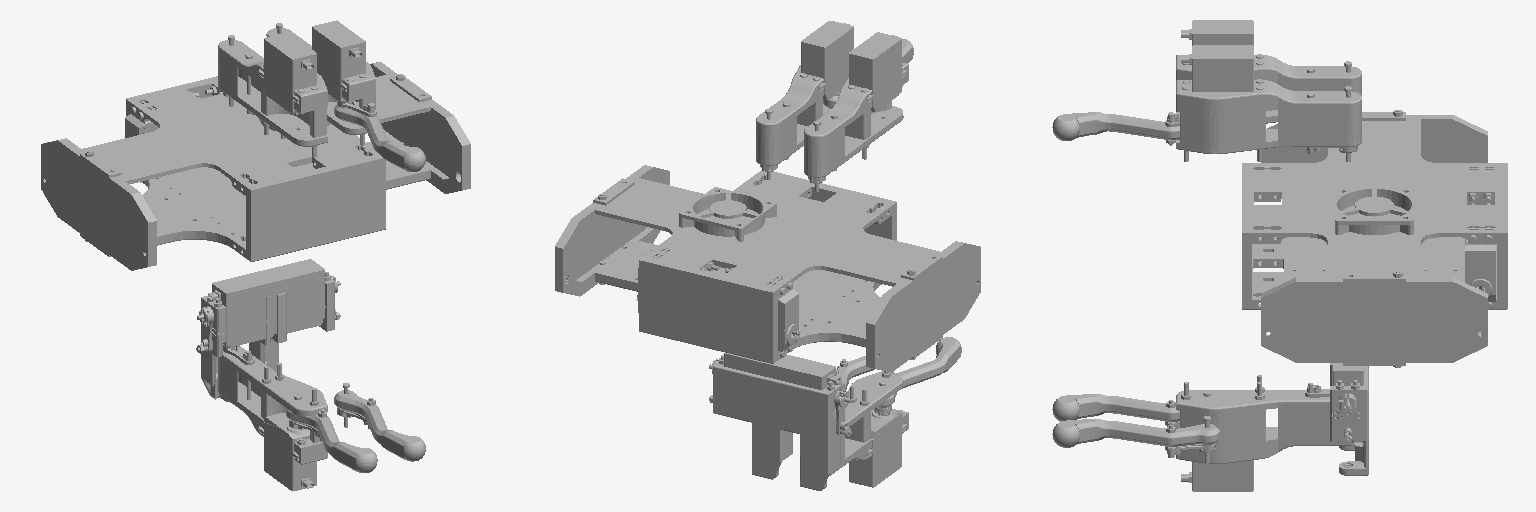
robot.urdf — urd_robot_cuadrupedo_v1:
<?xml version="1.0" encoding="utf-8"?>
<!-- This URDF was automatically created by SolidWorks to URDF Exporter! Originally created by [author] ([email redacted]) 
     Commit Version: 1.6.0-4-g7f85cfe  Build Version: 1.6.7995.38578
     For more information, please see http://wiki.ros.org/sw_urdf_exporter -->
<robot
  name="urd_robot_cuadrupedo_v1">
  <link
    name="base_robot">
    <inertial>
      <origin
        xyz="-0.0023228 3.1531E-05 0.022788"
        rpy="0 0 0" />
      <mass
        value="0.68605" />
      <inertia
        ixx="0.0011299"
        ixy="1.1936E-07"
        ixz="-1.0334E-06"
        iyy="0.0011234"
        iyz="-2.8781E-08"
        izz="0.0021297" />
    </inertial>
    <visual>
      <origin
        xyz="0 0 0"
        rpy="0 0 0" />
      <geometry>
        <mesh
          filename="package://urd_robot_cuadrupedo_v1/meshes/base_robot.STL" />
      </geometry>
      <material
        name="">
        <color
          rgba="0.75294 0.75294 0.75294 1" />
      </material>
    </visual>
    <collision>
      <origin
        xyz="0 0 0"
        rpy="0 0 0" />
      <geometry>
        <mesh
          filename="package://urd_robot_cuadrupedo_v1/meshes/base_robot.STL" />
      </geometry>
    </collision>
  </link>
  <link
    name="eslabon_coxa_derecha_delantera">
    <inertial>
      <origin
        xyz="-0.0090269 0.001623 0.035369"
        rpy="0 0 0" />
      <mass
        value="0.076" />
      <inertia
        ixx="1.4748E-05"
        ixy="4.9519E-07"
        ixz="2.4535E-06"
        iyy="2.7861E-05"
        iyz="-3.2608E-07"
        izz="1.7467E-05" />
    </inertial>
    <visual>
      <origin
        xyz="0 0 0"
        rpy="0 0 0" />
      <geometry>
        <mesh
          filename="package://urd_robot_cuadrupedo_v1/meshes/eslabon_coxa_derecha_delantera.STL" />
      </geometry>
      <material
        name="">
        <color
          rgba="0.75294 0.75294 0.75294 1" />
      </material>
    </visual>
    <collision>
      <origin
        xyz="0 0 0"
        rpy="0 0 0" />
      <geometry>
        <mesh
          filename="package://urd_robot_cuadrupedo_v1/meshes/eslabon_coxa_derecha_delantera.STL" />
      </geometry>
    </collision>
  </link>
  <joint
    name="Motor1"
    type="revolute">
    <origin
      xyz="0.0556 -0.017 -0.0678"
      rpy="0 -1.5708 0" />
    <parent
      link="base_robot" />
    <child
      link="eslabon_coxa_derecha_delantera" />
    <axis
      xyz="0 0 1" />
    <limit
      lower="0"
      upper="0"
      effort="0"
      velocity="0" />
  </joint>
  <link
    name="eslabon_femur_derecha_delantera">
    <inertial>
      <origin
        xyz="-0.037916 -0.062962 -0.0024207"
        rpy="0 0 0" />
      <mass
        value="0.1022" />
      <inertia
        ixx="4.8323E-05"
        ixy="-2.073E-06"
        ixz="-1.9564E-07"
        iyy="1.3118E-05"
        iyz="-3.536E-06"
        izz="5.4793E-05" />
    </inertial>
    <visual>
      <origin
        xyz="0 0 0"
        rpy="0 0 0" />
      <geometry>
        <mesh
          filename="package://urd_robot_cuadrupedo_v1/meshes/eslabon_femur_derecha_delantera.STL" />
      </geometry>
      <material
        name="">
        <color
          rgba="0.75294 0.75294 0.75294 1" />
      </material>
    </visual>
    <collision>
      <origin
        xyz="0 0 0"
        rpy="0 0 0" />
      <geometry>
        <mesh
          filename="package://urd_robot_cuadrupedo_v1/meshes/eslabon_femur_derecha_delantera.STL" />
      </geometry>
    </collision>
  </link>
  <joint
    name="Motor5"
    type="revolute">
    <origin
      xyz="-0.0165 0.0002 0.0467"
      rpy="0 0 0" />
    <parent
      link="eslabon_coxa_derecha_delantera" />
    <child
      link="eslabon_femur_derecha_delantera" />
    <axis
      xyz="1 0 0" />
    <limit
      lower="0"
      upper="0"
      effort="0"
      velocity="0" />
  </joint>
  <link
    name="eslabon_tibia_derecha_delantera">
    <inertial>
      <origin
        xyz="-0.014256 -0.033591 -0.00052387"
        rpy="0 0 0" />
      <mass
        value="0.02333" />
      <inertia
        ixx="1.094E-05"
        ixy="1.3416E-08"
        ixz="3.5897E-09"
        iyy="7.9923E-07"
        iyz="8.1426E-07"
        izz="1.0939E-05" />
    </inertial>
    <visual>
      <origin
        xyz="0 0 0"
        rpy="0 0 0" />
      <geometry>
        <mesh
          filename="package://urd_robot_cuadrupedo_v1/meshes/eslabon_tibia_derecha_delantera.STL" />
      </geometry>
      <material
        name="">
        <color
          rgba="0.75294 0.75294 0.75294 1" />
      </material>
    </visual>
    <collision>
      <origin
        xyz="0 0 0"
        rpy="0 0 0" />
      <geometry>
        <mesh
          filename="package://urd_robot_cuadrupedo_v1/meshes/eslabon_tibia_derecha_delantera.STL" />
      </geometry>
    </collision>
  </link>
  <joint
    name="Motor9"
    type="revolute">
    <origin
      xyz="-0.0118 -0.09 0"
      rpy="0 0 0" />
    <parent
      link="eslabon_femur_derecha_delantera" />
    <child
      link="eslabon_tibia_derecha_delantera" />
    <axis
      xyz="1 0 0" />
    <limit
      lower="0"
      upper="0"
      effort="0"
      velocity="0" />
  </joint>
  <link
    name="eslabon_coxa_derecha_trazera">
    <inertial>
      <origin
        xyz="-0.0090269 0.0016241 -0.032487"
        rpy="0 0 0" />
      <mass
        value="0.076" />
      <inertia
        ixx="1.4778E-05"
        ixy="5.0366E-07"
        ixz="2.4094E-06"
        iyy="2.7891E-05"
        iyz="-3.4746E-07"
        izz="1.7467E-05" />
    </inertial>
    <visual>
      <origin
        xyz="0 0 0"
        rpy="0 0 0" />
      <geometry>
        <mesh
          filename="package://urd_robot_cuadrupedo_v1/meshes/eslabon_coxa_derecha_trazera.STL" />
      </geometry>
      <material
        name="">
        <color
          rgba="0.75294 0.75294 0.75294 1" />
      </material>
    </visual>
    <collision>
      <origin
        xyz="0 0 0"
        rpy="0 0 0" />
      <geometry>
        <mesh
          filename="package://urd_robot_cuadrupedo_v1/meshes/eslabon_coxa_derecha_trazera.STL" />
      </geometry>
    </collision>
  </link>
  <joint
    name="Motor2"
    type="revolute">
    <origin
      xyz="-0.0556 -0.017 -0.0678"
      rpy="0 -1.5708 0" />
    <parent
      link="base_robot" />
    <child
      link="eslabon_coxa_derecha_trazera" />
    <axis
      xyz="0 0 1" />
    <limit
      lower="0"
      upper="0"
      effort="0"
      velocity="0" />
  </joint>
  <link
    name="eslabon_femur_derecha_trazera">
    <inertial>
      <origin
        xyz="-0.037916 -0.062962 -0.0024207"
        rpy="0 0 0" />
      <mass
        value="0.1022" />
      <inertia
        ixx="4.8323E-05"
        ixy="-2.073E-06"
        ixz="-1.9564E-07"
        iyy="1.3118E-05"
        iyz="-3.536E-06"
        izz="5.4793E-05" />
    </inertial>
    <visual>
      <origin
        xyz="0 0 0"
        rpy="0 0 0" />
      <geometry>
        <mesh
          filename="package://urd_robot_cuadrupedo_v1/meshes/eslabon_femur_derecha_trazera.STL" />
      </geometry>
      <material
        name="">
        <color
          rgba="0.75294 0.75294 0.75294 1" />
      </material>
    </visual>
    <collision>
      <origin
        xyz="0 0 0"
        rpy="0 0 0" />
      <geometry>
        <mesh
          filename="package://urd_robot_cuadrupedo_v1/meshes/eslabon_femur_derecha_trazera.STL" />
      </geometry>
    </collision>
  </link>
  <joint
    name="Motor6"
    type="revolute">
    <origin
      xyz="-0.0165 0.0002 -0.0267"
      rpy="0 0 0" />
    <parent
      link="eslabon_coxa_derecha_trazera" />
    <child
      link="eslabon_femur_derecha_trazera" />
    <axis
      xyz="1 0 0" />
    <limit
      lower="0"
      upper="0"
      effort="0"
      velocity="0" />
  </joint>
  <link
    name="eslabon_tibia_derecha_trazera">
    <inertial>
      <origin
        xyz="-0.014256 -0.033591 -0.00052387"
        rpy="0 0 0" />
      <mass
        value="0.02333" />
      <inertia
        ixx="1.094E-05"
        ixy="1.3416E-08"
        ixz="3.5897E-09"
        iyy="7.9923E-07"
        iyz="8.1426E-07"
        izz="1.0939E-05" />
    </inertial>
    <visual>
      <origin
        xyz="0 0 0"
        rpy="0 0 0" />
      <geometry>
        <mesh
          filename="package://urd_robot_cuadrupedo_v1/meshes/eslabon_tibia_derecha_trazera.STL" />
      </geometry>
      <material
        name="">
        <color
          rgba="0.75294 0.75294 0.75294 1" />
      </material>
    </visual>
    <collision>
      <origin
        xyz="0 0 0"
        rpy="0 0 0" />
      <geometry>
        <mesh
          filename="package://urd_robot_cuadrupedo_v1/meshes/eslabon_tibia_derecha_trazera.STL" />
      </geometry>
    </collision>
  </link>
  <joint
    name="Motor10"
    type="revolute">
    <origin
      xyz="-0.0118 -0.09 0"
      rpy="0 0 0" />
    <parent
      link="eslabon_femur_derecha_trazera" />
    <child
      link="eslabon_tibia_derecha_trazera" />
    <axis
      xyz="1 0 0" />
    <limit
      lower="0"
      upper="0"
      effort="0"
      velocity="0" />
  </joint>
  <link
    name="eslabon_coxa_izquierda_delantera">
    <inertial>
      <origin
        xyz="0.0090266 0.001627 0.035374"
        rpy="0 0 0" />
      <mass
        value="0.075981" />
      <inertia
        ixx="1.4729E-05"
        ixy="-5.0055E-07"
        ixz="-2.4484E-06"
        iyy="2.7844E-05"
        iyz="-3.1785E-07"
        izz="1.746E-05" />
    </inertial>
    <visual>
      <origin
        xyz="0 0 0"
        rpy="0 0 0" />
      <geometry>
        <mesh
          filename="package://urd_robot_cuadrupedo_v1/meshes/eslabon_coxa_izquierda_delantera.STL" />
      </geometry>
      <material
        name="">
        <color
          rgba="0.75294 0.75294 0.75294 1" />
      </material>
    </visual>
    <collision>
      <origin
        xyz="0 0 0"
        rpy="0 0 0" />
      <geometry>
        <mesh
          filename="package://urd_robot_cuadrupedo_v1/meshes/eslabon_coxa_izquierda_delantera.STL" />
      </geometry>
    </collision>
  </link>
  <joint
    name="Motor3"
    type="revolute">
    <origin
      xyz="0.0556 -0.017 0.0678"
      rpy="0 -1.5708 0" />
    <parent
      link="base_robot" />
    <child
      link="eslabon_coxa_izquierda_delantera" />
    <axis
      xyz="0 0 1" />
    <limit
      lower="0"
      upper="0"
      effort="0"
      velocity="0" />
  </joint>
  <link
    name="eslabon_femur_izquierda_delantera">
    <inertial>
      <origin
        xyz="0.037916 -0.062962 -0.0024214"
        rpy="0 0 0" />
      <mass
        value="0.1022" />
      <inertia
        ixx="4.8323E-05"
        ixy="2.073E-06"
        ixz="1.9572E-07"
        iyy="1.3118E-05"
        iyz="-3.5447E-06"
        izz="5.4793E-05" />
    </inertial>
    <visual>
      <origin
        xyz="0 0 0"
        rpy="0 0 0" />
      <geometry>
        <mesh
          filename="package://urd_robot_cuadrupedo_v1/meshes/eslabon_femur_izquierda_delantera.STL" />
      </geometry>
      <material
        name="">
        <color
          rgba="0.75294 0.75294 0.75294 1" />
      </material>
    </visual>
    <collision>
      <origin
        xyz="0 0 0"
        rpy="0 0 0" />
      <geometry>
        <mesh
          filename="package://urd_robot_cuadrupedo_v1/meshes/eslabon_femur_izquierda_delantera.STL" />
      </geometry>
    </collision>
  </link>
  <joint
    name="Motor7"
    type="revolute">
    <origin
      xyz="0.0165 0.0002 0.0467"
      rpy="0 0 0" />
    <parent
      link="eslabon_coxa_izquierda_delantera" />
    <child
      link="eslabon_femur_izquierda_delantera" />
    <axis
      xyz="1 0 0" />
    <limit
      lower="0"
      upper="0"
      effort="0"
      velocity="0" />
  </joint>
  <link
    name="eslabon_tibia_izquierda_delantera">
    <inertial>
      <origin
        xyz="0.014256 -0.033592 -0.00052045"
        rpy="0 0 0" />
      <mass
        value="0.02333" />
      <inertia
        ixx="1.094E-05"
        ixy="-1.3419E-08"
        ixz="-3.601E-09"
        iyy="7.95E-07"
        iyz="8.2159E-07"
        izz="1.0943E-05" />
    </inertial>
    <visual>
      <origin
        xyz="0 0 0"
        rpy="0 0 0" />
      <geometry>
        <mesh
          filename="package://urd_robot_cuadrupedo_v1/meshes/eslabon_tibia_izquierda_delantera.STL" />
      </geometry>
      <material
        name="">
        <color
          rgba="0.75294 0.75294 0.75294 1" />
      </material>
    </visual>
    <collision>
      <origin
        xyz="0 0 0"
        rpy="0 0 0" />
      <geometry>
        <mesh
          filename="package://urd_robot_cuadrupedo_v1/meshes/eslabon_tibia_izquierda_delantera.STL" />
      </geometry>
    </collision>
  </link>
  <joint
    name="Motor11"
    type="revolute">
    <origin
      xyz="0.0118 -0.09 0"
      rpy="0 0 0" />
    <parent
      link="eslabon_femur_izquierda_delantera" />
    <child
      link="eslabon_tibia_izquierda_delantera" />
    <axis
      xyz="1 0 0" />
    <limit
      lower="0"
      upper="0"
      effort="0"
      velocity="0" />
  </joint>
  <link
    name="eslabon_coxa_izquierda_trasera">
    <inertial>
      <origin
        xyz="0 0 0"
        rpy="0 0 0" />
      <mass
        value="0" />
      <inertia
        ixx="0"
        ixy="0"
        ixz="0"
        iyy="0"
        iyz="0"
        izz="0" />
    </inertial>
    <visual>
      <origin
        xyz="0 0 0"
        rpy="0 0 0" />
      <geometry>
        <mesh
          filename="package://urd_robot_cuadrupedo_v1/meshes/eslabon_coxa_izquierda_trasera.STL" />
      </geometry>
      <material
        name="">
        <color
          rgba="1 1 1 1" />
      </material>
    </visual>
    <collision>
      <origin
        xyz="0 0 0"
        rpy="0 0 0" />
      <geometry>
        <mesh
          filename="package://urd_robot_cuadrupedo_v1/meshes/eslabon_coxa_izquierda_trasera.STL" />
      </geometry>
    </collision>
  </link>
  <joint
    name="Motor4"
    type="revolute">
    <origin
      xyz="-0.0556 -0.017 0.0678"
      rpy="0 -1.5708 0" />
    <parent
      link="base_robot" />
    <child
      link="eslabon_coxa_izquierda_trasera" />
    <axis
      xyz="0 0 1" />
    <limit
      lower="0"
      upper="0"
      effort="0"
      velocity="0" />
  </joint>
  <link
    name="eslabon_femur_izquierda_trazera">
    <inertial>
      <origin
        xyz="0.037916 -0.062962 -0.0024214"
        rpy="0 0 0" />
      <mass
        value="0.1022" />
      <inertia
        ixx="4.8323E-05"
        ixy="2.073E-06"
        ixz="1.9572E-07"
        iyy="1.3118E-05"
        iyz="-3.5447E-06"
        izz="5.4793E-05" />
    </inertial>
    <visual>
      <origin
        xyz="0 0 0"
        rpy="0 0 0" />
      <geometry>
        <mesh
          filename="package://urd_robot_cuadrupedo_v1/meshes/eslabon_femur_izquierda_trazera.STL" />
      </geometry>
      <material
        name="">
        <color
          rgba="0.75294 0.75294 0.75294 1" />
      </material>
    </visual>
    <collision>
      <origin
        xyz="0 0 0"
        rpy="0 0 0" />
      <geometry>
        <mesh
          filename="package://urd_robot_cuadrupedo_v1/meshes/eslabon_femur_izquierda_trazera.STL" />
      </geometry>
    </collision>
  </link>
  <joint
    name="Motor8"
    type="revolute">
    <origin
      xyz="0.0165 0.0002 -0.0267"
      rpy="0 0 0" />
    <parent
      link="eslabon_coxa_izquierda_trasera" />
    <child
      link="eslabon_femur_izquierda_trazera" />
    <axis
      xyz="1 0 0" />
    <limit
      lower="0"
      upper="0"
      effort="0"
      velocity="0" />
  </joint>
  <link
    name="eslabon_tibia_izquierda_trasera">
    <inertial>
      <origin
        xyz="0.014256 -0.033592 -0.00052045"
        rpy="0 0 0" />
      <mass
        value="0.02333" />
      <inertia
        ixx="1.094E-05"
        ixy="-1.3419E-08"
        ixz="-3.601E-09"
        iyy="7.95E-07"
        iyz="8.2159E-07"
        izz="1.0943E-05" />
    </inertial>
    <visual>
      <origin
        xyz="0 0 0"
        rpy="0 0 0" />
      <geometry>
        <mesh
          filename="package://urd_robot_cuadrupedo_v1/meshes/eslabon_tibia_izquierda_trasera.STL" />
      </geometry>
      <material
        name="">
        <color
          rgba="0.75294 0.75294 0.75294 1" />
      </material>
    </visual>
    <collision>
      <origin
        xyz="0 0 0"
        rpy="0 0 0" />
      <geometry>
        <mesh
          filename="package://urd_robot_cuadrupedo_v1/meshes/eslabon_tibia_izquierda_trasera.STL" />
      </geometry>
    </collision>
  </link>
  <joint
    name="Motor12"
    type="revolute">
    <origin
      xyz="0.0118 -0.09 0"
      rpy="0 0 0" />
    <parent
      link="eslabon_femur_izquierda_trazera" />
    <child
      link="eslabon_tibia_izquierda_trasera" />
    <axis
      xyz="1 0 0" />
    <limit
      lower="0"
      upper="0"
      effort="0"
      velocity="0" />
  </joint>
</robot>

--- What the picture shows (computed from the rendered views, not written in the file) ---
Views: 3 orthographic renders of the robot side by side, from view 1: azimuth 30°, elevation 25°; view 2: azimuth 150°, elevation 25°; view 3: azimuth 270°, elevation 25°.
Robot: urd_robot_cuadrupedo_v1 — 13 links, 12 joints (12 revolute); root link base_robot; default pose: every joint at zero.
Visible links, largest first — view 1: base_robot, eslabon_femur_izquierda_trazera, eslabon_femur_derecha_trazera, eslabon_coxa_derecha_trazera, eslabon_femur_izquierda_delantera, eslabon_coxa_derecha_delantera, eslabon_tibia_derecha_delantera, eslabon_tibia_izquierda_delantera, eslabon_tibia_derecha_trazera; view 2: base_robot, eslabon_femur_izquierda_trazera, eslabon_coxa_derecha_trazera, eslabon_femur_izquierda_delantera, eslabon_femur_derecha_trazera, eslabon_coxa_derecha_delantera, eslabon_tibia_derecha_trazera, eslabon_tibia_derecha_delantera; view 3: base_robot, eslabon_femur_izquierda_delantera, eslabon_femur_derecha_trazera, eslabon_femur_izquierda_trazera, eslabon_tibia_derecha_delantera, eslabon_coxa_derecha_delantera, eslabon_tibia_izquierda_delantera, eslabon_tibia_derecha_trazera.
Link boxes in pixels (x1,y1,x2,y2): base_robot: (41,62,470,270); eslabon_femur_izquierda_trazera: (218,32,327,157); eslabon_femur_derecha_trazera: (218,344,327,490); eslabon_coxa_derecha_trazera: (196,271,286,402); eslabon_femur_izquierda_delantera: (266,20,375,145); eslabon_coxa_derecha_delantera: (249,259,340,371); eslabon_tibia_derecha_delantera: (334,383,425,461); eslabon_tibia_izquierda_delantera: (334,100,425,171); eslabon_tibia_derecha_trazera: (286,394,377,472); base_robot: (555,165,980,372); eslabon_femur_izquierda_trazera: (804,32,908,191); eslabon_coxa_derecha_trazera: (761,355,851,490); eslabon_femur_izquierda_delantera: (756,21,853,179); eslabon_femur_derecha_trazera: (829,371,908,487); eslabon_coxa_derecha_delantera: (709,353,792,479); eslabon_tibia_derecha_trazera: (874,337,961,415); eslabon_tibia_derecha_delantera: (836,356,874,390); base_robot: (1242,110,1507,367); eslabon_femur_izquierda_delantera: (1176,45,1361,161); eslabon_femur_derecha_trazera: (1176,375,1354,491); eslabon_femur_izquierda_trazera: (1176,20,1361,123); eslabon_tibia_derecha_delantera: (1052,416,1219,463); eslabon_coxa_derecha_delantera: (1330,363,1368,475); eslabon_tibia_izquierda_delantera: (1052,112,1179,145); eslabon_tibia_derecha_trazera: (1052,391,1210,428).
Bounding box of the posed robot: 0.2526 × 0.2908 × 0.3228 m (x, y, z).
9 mesh visuals loaded from 13 distinct referenced files (9 binary STL); not drawn: 4 (reference not matched to a file when rendering).